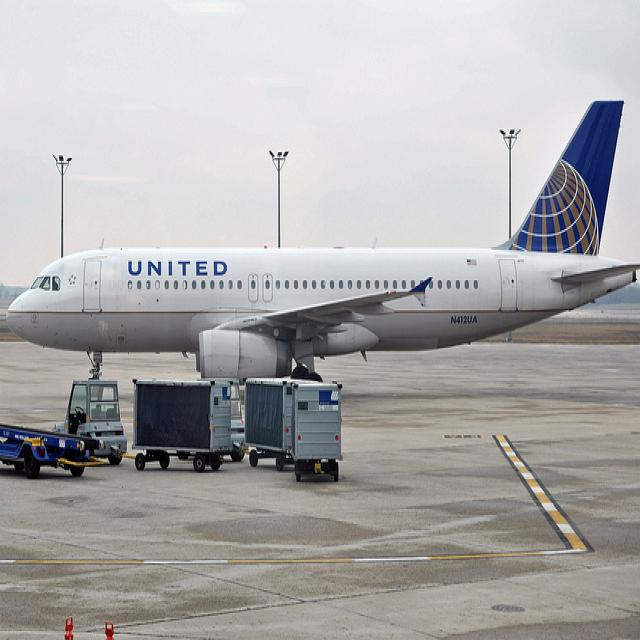airplane: (4, 97, 640, 392)
